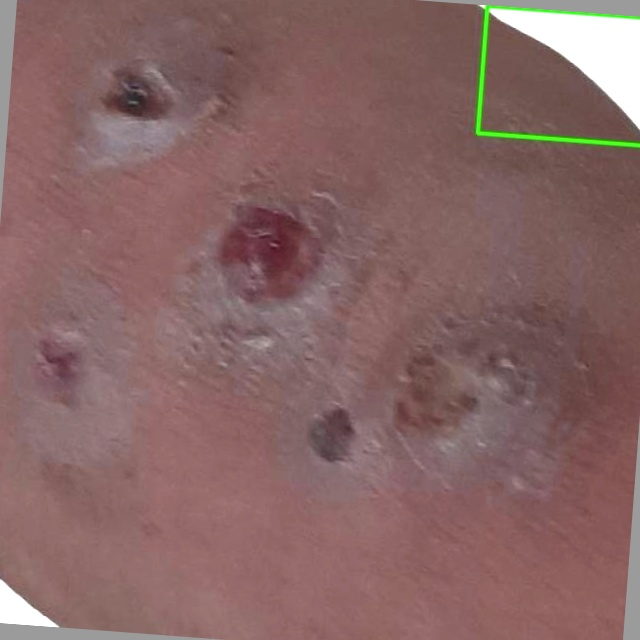Scabies: (477, 6, 639, 145)
